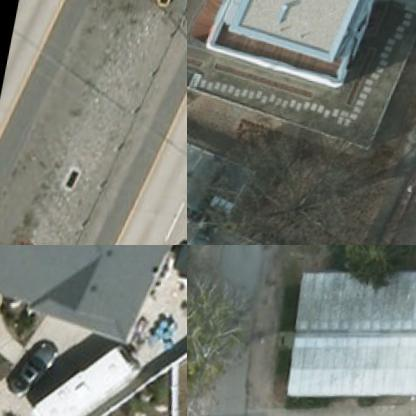camping car: (21, 333, 156, 415)
car: (3, 335, 64, 400), (187, 217, 219, 244)
